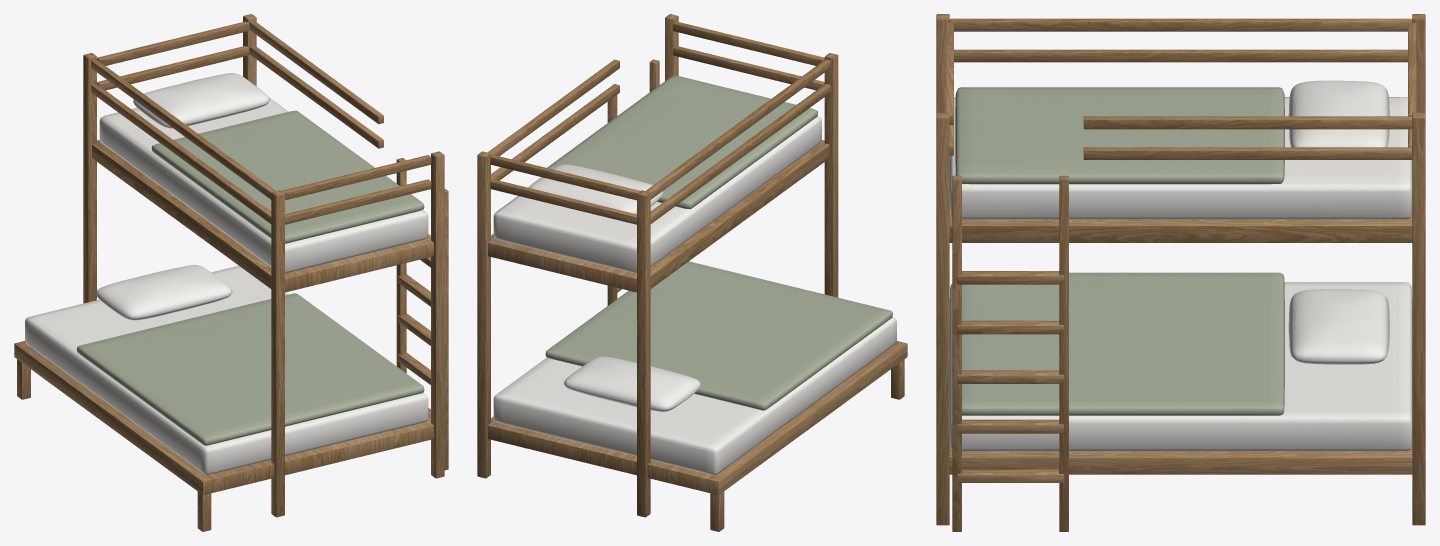
File: litera_familiar_135_90.glb
3 renders of one model, left to right at view 1: azimuth 30°, elevation 25°; view 2: azimuth 150°, elevation 25°; view 3: azimuth 270°, elevation 25°, orthographic. The views are drawn at different scales.
Visible parts, largest first — view 1: litera_familiar_135_90; view 2: litera_familiar_135_90; view 3: litera_familiar_135_90.
Part boxes in pixels (bbox=[...]): litera_familiar_135_90: bbox=[14, 14, 448, 531]; litera_familiar_135_90: bbox=[477, 14, 907, 531]; litera_familiar_135_90: bbox=[936, 14, 1425, 531].
Size of the model in its own units: 1.51 by 1.85 by 2.01.
3 materials, 3 textured.
